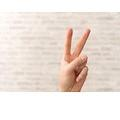tyoki: (58, 27, 91, 90)
